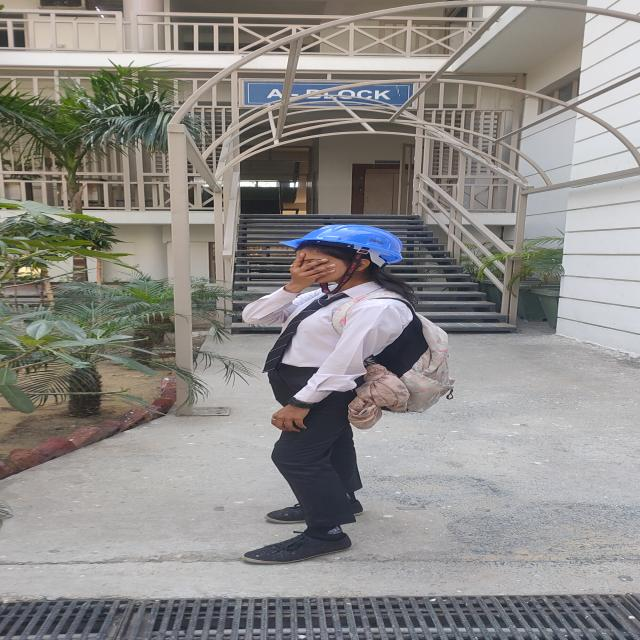no jacket: (264, 224, 410, 564)
